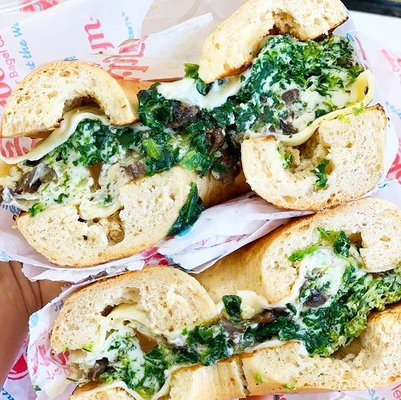soup: (189, 197, 401, 359), (45, 265, 228, 399)
